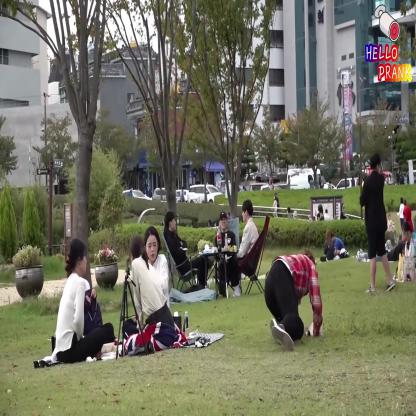Fall_Down: (262, 246, 326, 362)
